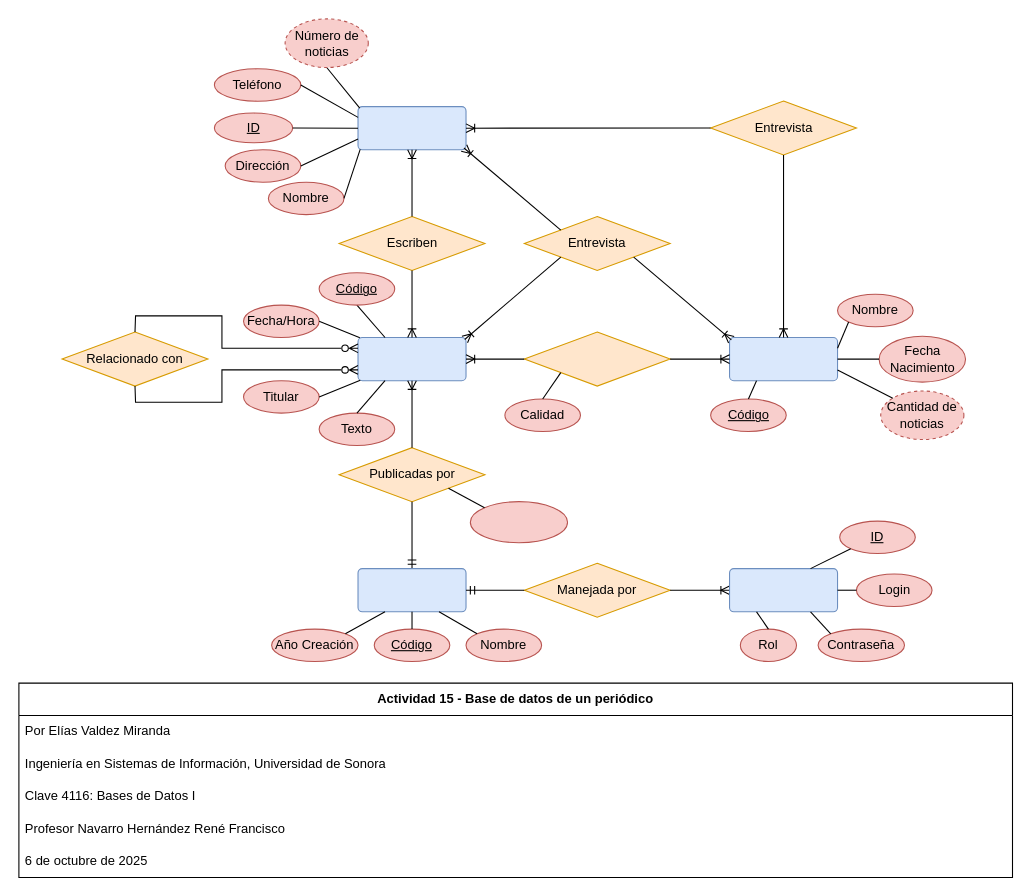
This 1031x896 diagram has some shape labels left out. The centre of each missing label's shape, as x and y in pixels:
Agencia: the point at 411,590
Hora publicación: the point at 518,522
Implicados: the point at 783,358
Noticias: the point at 411,358
Participan: the point at 596,358
Periodistas: the point at 411,128
Usuario: the point at 783,590
